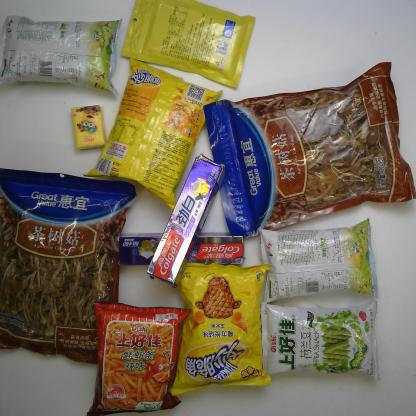Dried Food: (200, 58, 416, 239), (1, 165, 138, 367)
Dried Fruit: (118, 1, 257, 91)
Personal Hygiene: (144, 151, 228, 291), (116, 229, 246, 269)
Puffed Food: (80, 55, 226, 213), (168, 260, 274, 398), (82, 298, 195, 416), (256, 213, 384, 305), (1, 12, 127, 100), (258, 298, 383, 386)
Tissue: (69, 101, 110, 153)
